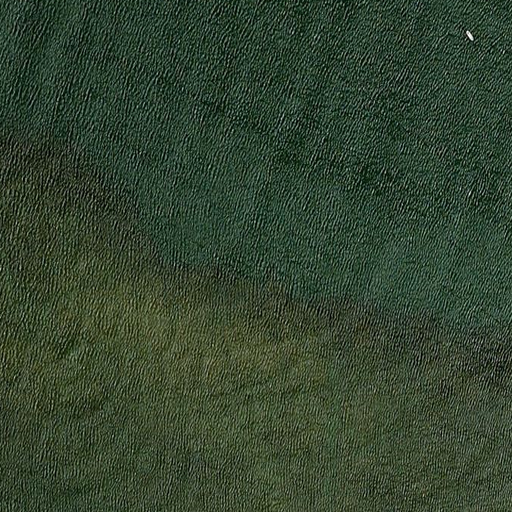ship: (463, 28, 476, 42)
